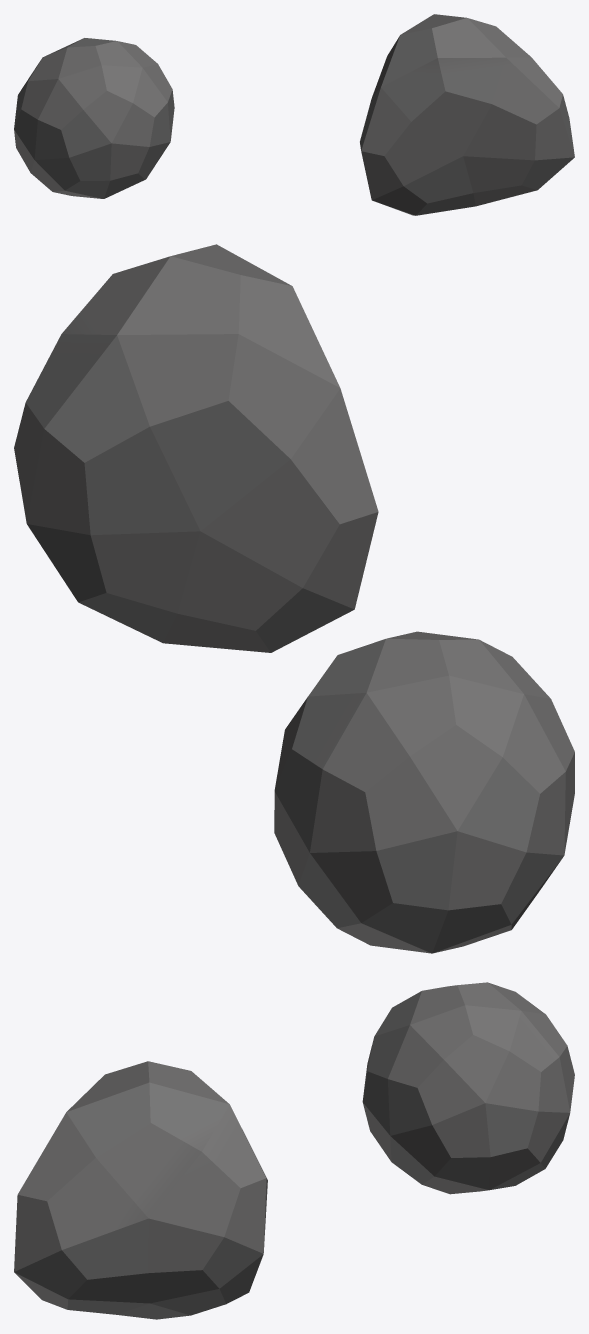
File: kamienie (2).fbx
3 views of the same model, one above another, from view 1: azimuth 30°, elevation 25°; view 2: azimuth 150°, elevation 25°; view 3: azimuth 270°, elevation 25° (orthographic). The views are drawn at different scales.
Parts seen in each view (by area): view 1: Icosphere.016, Icosphere.004; view 2: Icosphere.016, Icosphere.004; view 3: Icosphere.016, Icosphere.004.
Part boxes in pixels (x1,y1,x2,y2): Icosphere.016: (360, 14, 574, 215); Icosphere.004: (14, 38, 174, 198); Icosphere.016: (14, 244, 378, 652); Icosphere.004: (274, 631, 574, 953); Icosphere.016: (14, 1061, 267, 1319); Icosphere.004: (362, 982, 574, 1194).
Bounding box in the file's own units: 33.94 × 35.82 × 18.
